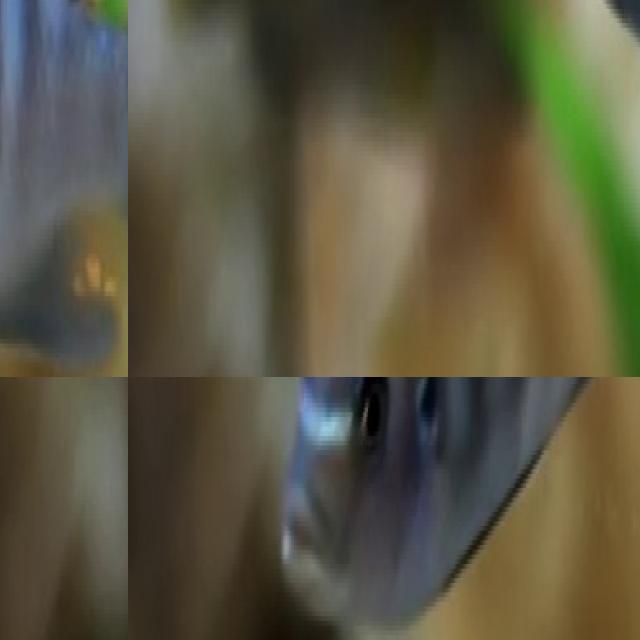fish: (0, 0, 128, 377), (349, 0, 640, 127)
